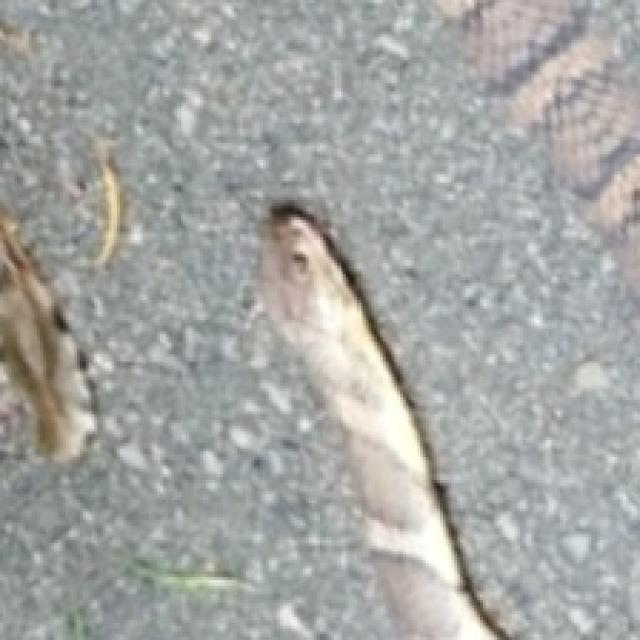king cobra: (257, 203, 506, 637)
